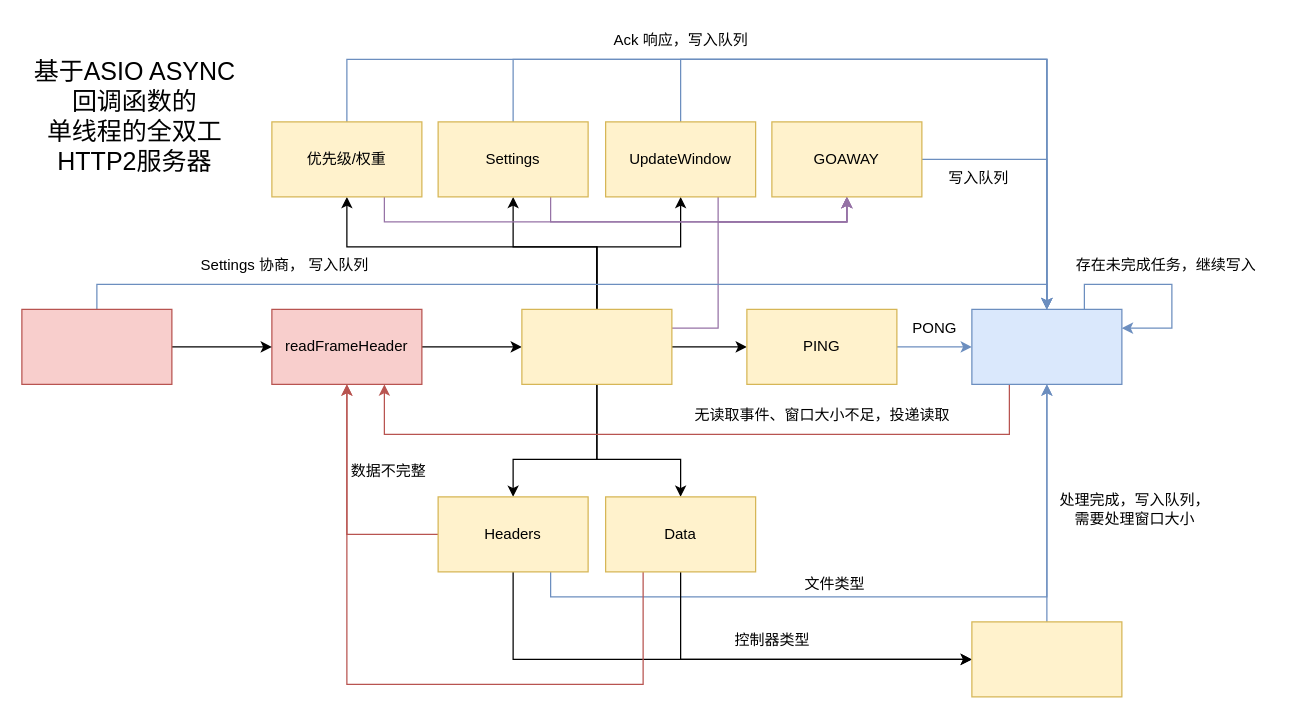
Some shapes in this 1294 by 719 pixel diagram are drawn without their labels. Here are the shapes that lost their labels. From the top down, the centre of each, then its label:
At pixel 96 346: "readMagic".
At pixel 596 346: "分发".
At pixel 1046 346: "写入".
At pixel 1046 659: "控制器".
